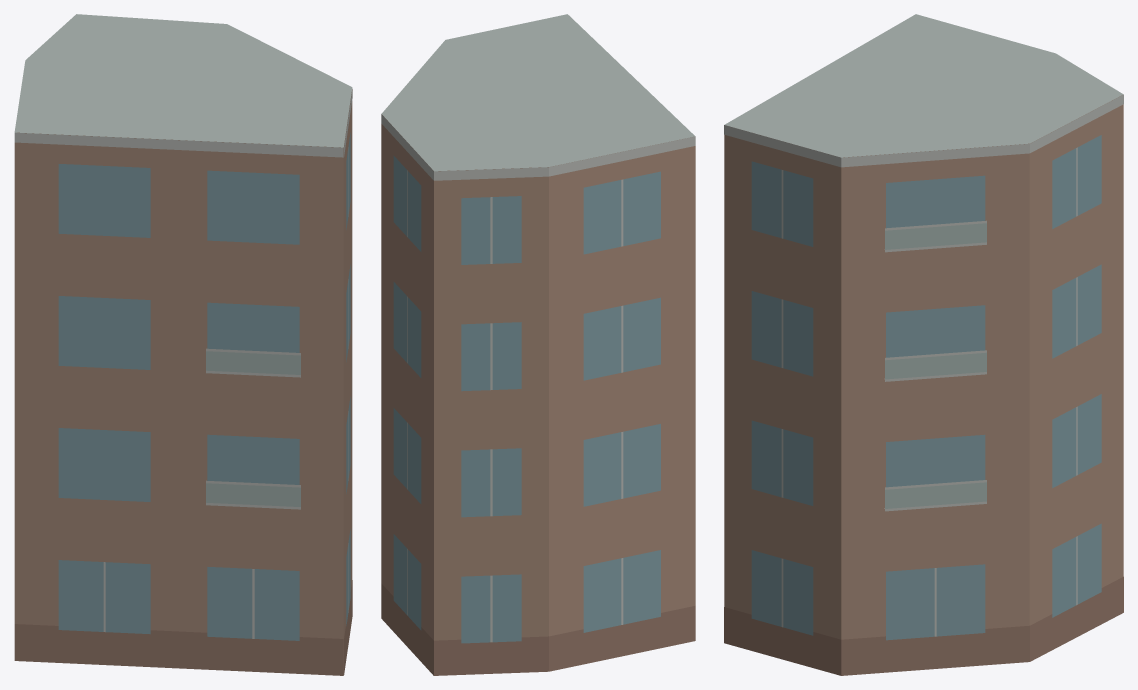
Rendered from survey-upis-32499184.glb.
3 views of the same model, side by side, from view 1: azimuth 30°, elevation 25°; view 2: azimuth 150°, elevation 25°; view 3: azimuth 270°, elevation 25° (orthographic). The views are drawn at different scales.
Visible parts, largest first — view 1: survey-upis-32499184.tmp; view 2: survey-upis-32499184.tmp; view 3: survey-upis-32499184.tmp.
Part boxes in pixels (x1,y1,x2,y2): survey-upis-32499184.tmp: (14, 14, 352, 675); survey-upis-32499184.tmp: (381, 14, 695, 675); survey-upis-32499184.tmp: (724, 14, 1123, 675).
Size of the model in its own units: 7.67 by 12.9 by 9.02.
